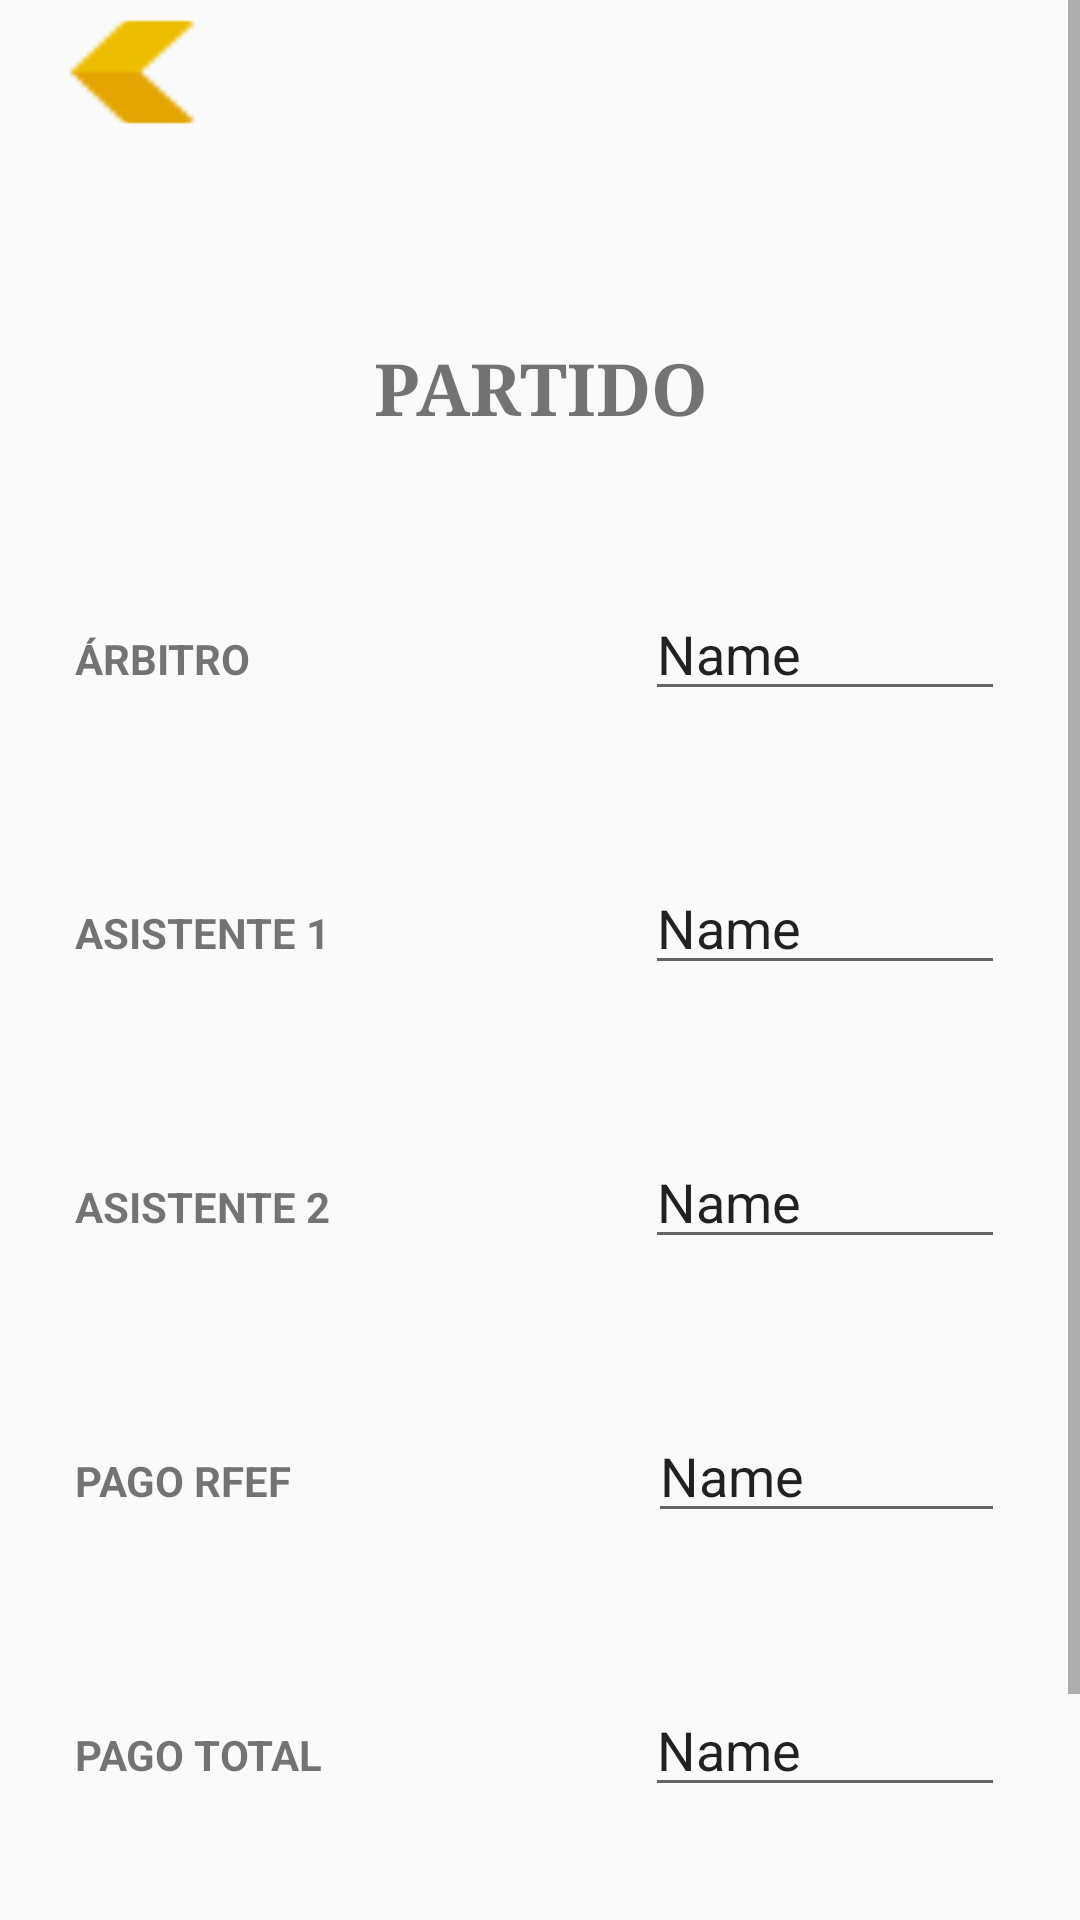

Named icons in this screenshot (1080*1920) and their bounding boxes, bbox(x1, y1, x2, y2):
volveroro: bbox(69, 20, 195, 124)
